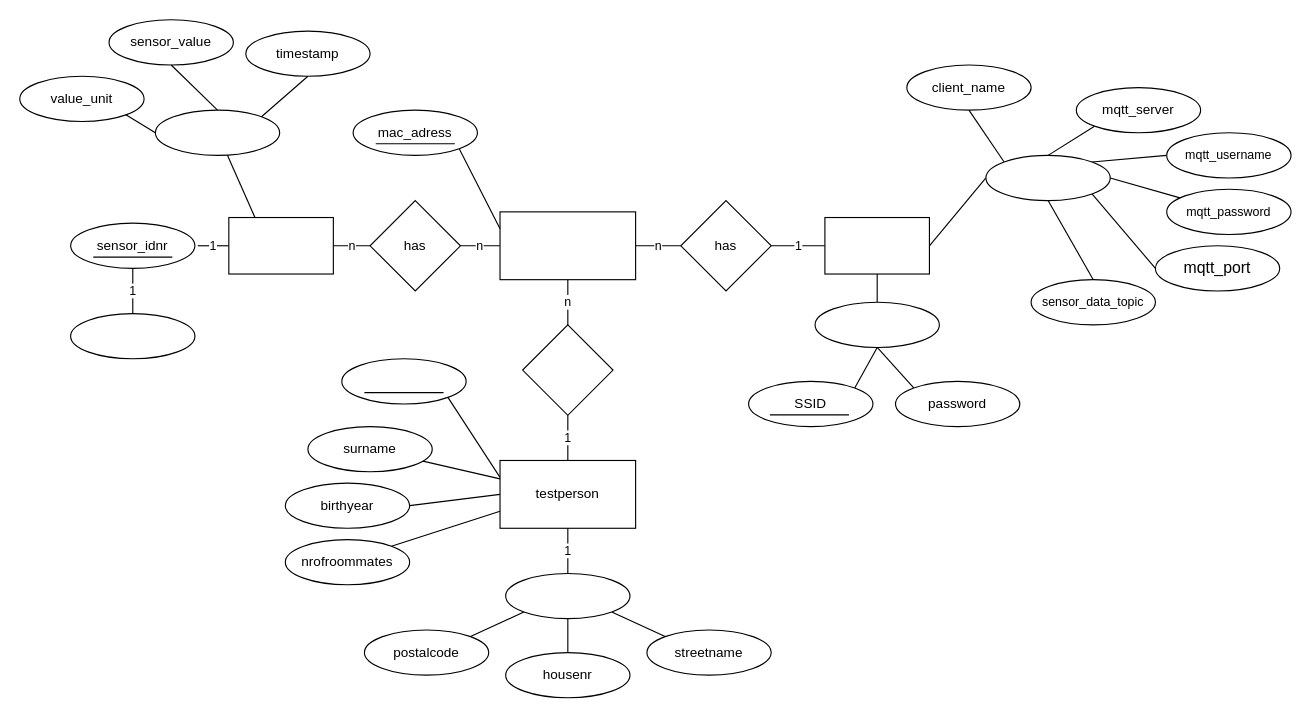
This 1311x718 diagram has some shape labels left out. Here are the shapes that lost their labels. From the top down, the box of each, then its label:
(154, 109, 280, 155): sensor_data
(985, 154, 1110, 201): mqtt_ settings
(228, 216, 333, 274): sensor
(499, 211, 636, 280): wastebin
(824, 216, 929, 274): settings
(69, 312, 195, 359): sensor_type
(814, 301, 939, 347): WiFi_settings
(341, 358, 466, 404): idnr
(521, 324, 613, 415): Is used by
(505, 572, 630, 619): address
